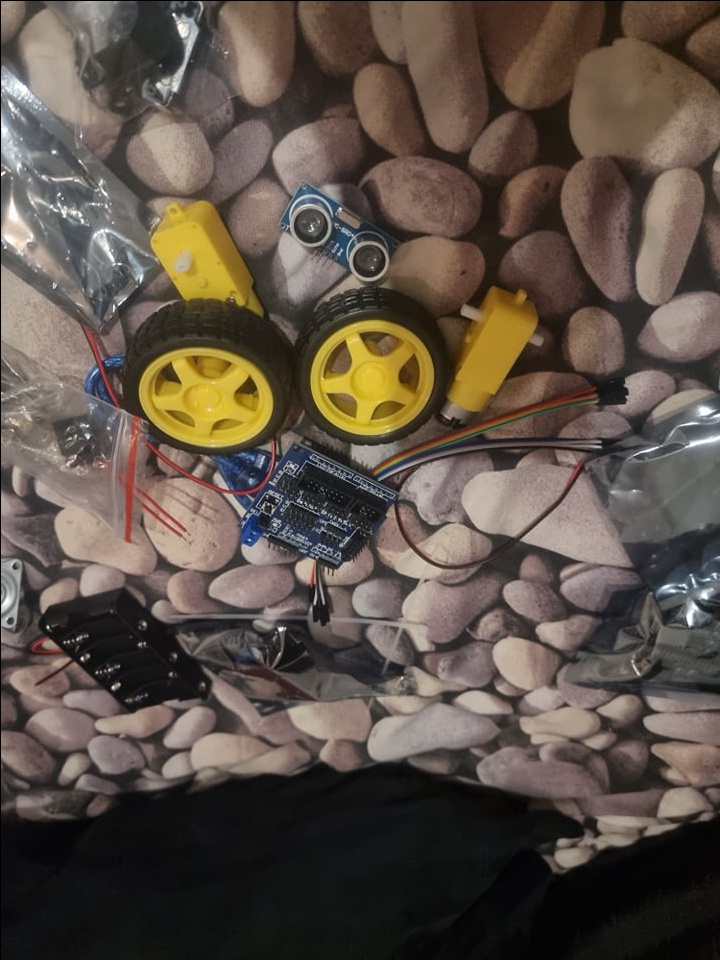5V EXPANSION: (241, 440, 395, 568)
BATTERY BOX: (38, 584, 212, 714)
SENSOR: (281, 185, 402, 284)
